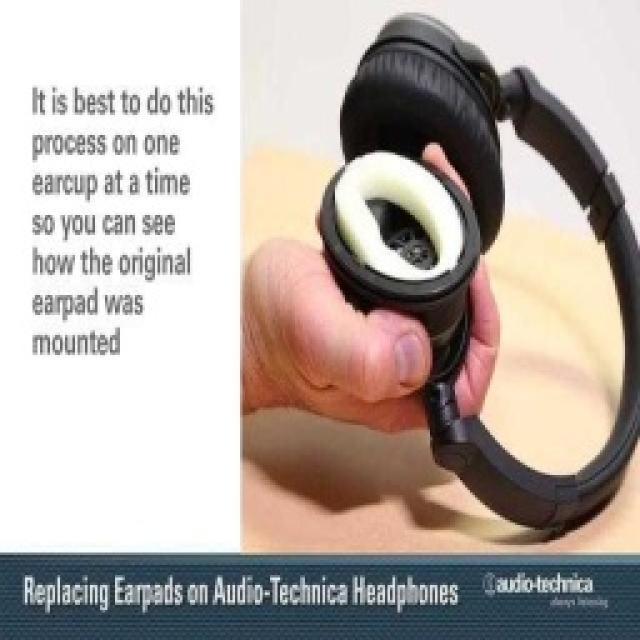headphones: (315, 10, 637, 532)
